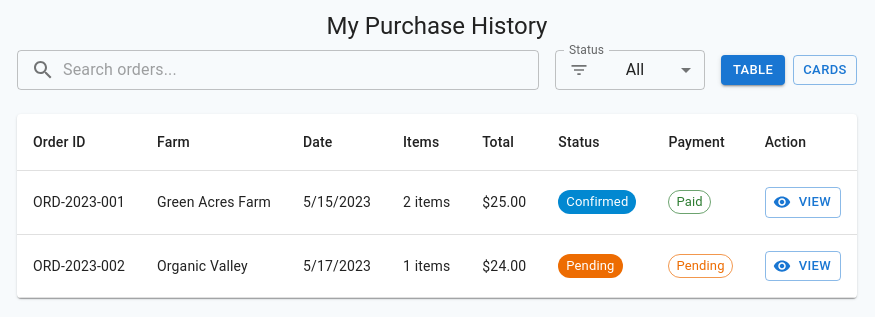
Test: OrderList Component › filters orders by status
This screenshot has width=875, height=317.
Expected: the number of rows is 3, x1=17 y1=114 x2=857 y2=170; x1=17 y1=170 x2=857 y2=234; x1=17 y1=234 x2=857 y2=298
Expected: the text "ORD-2023-001" is shown, x1=17 y1=170 x2=141 y2=234
Find the status filter dropdown and open it
Click the dropdown named "Status".
click(635, 70)  # box x1=626 y1=60 x2=644 y2=80
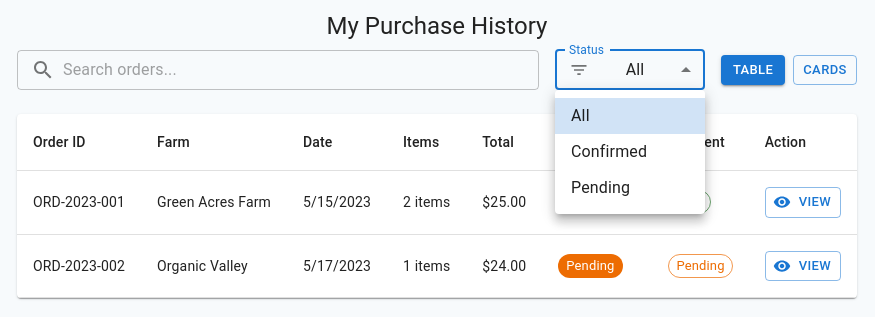
Find the "Confirmed" option in the dropdown by its role and data-value attribute
Click the option "Confirmed".
click(609, 152)  # box x1=571 y1=142 x2=647 y2=161
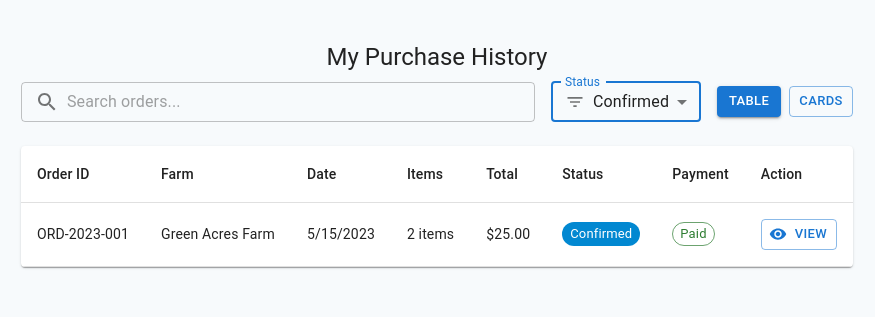
Expected: the text "ORD-2023-001" is shown, x1=21 y1=202 x2=145 y2=266
Result: the text "ORD-2023-002" is gone
